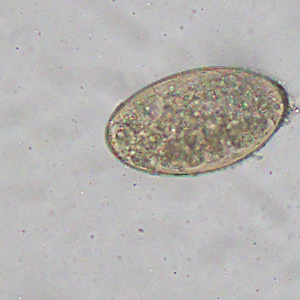Fasciola_hepatica_egg: (105, 65, 291, 178)
